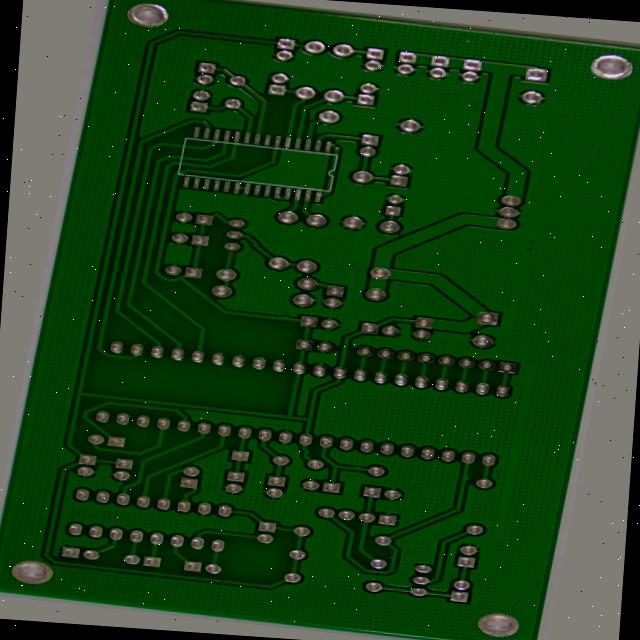spur: (497, 473, 515, 484), (374, 468, 392, 478), (428, 559, 443, 568)
